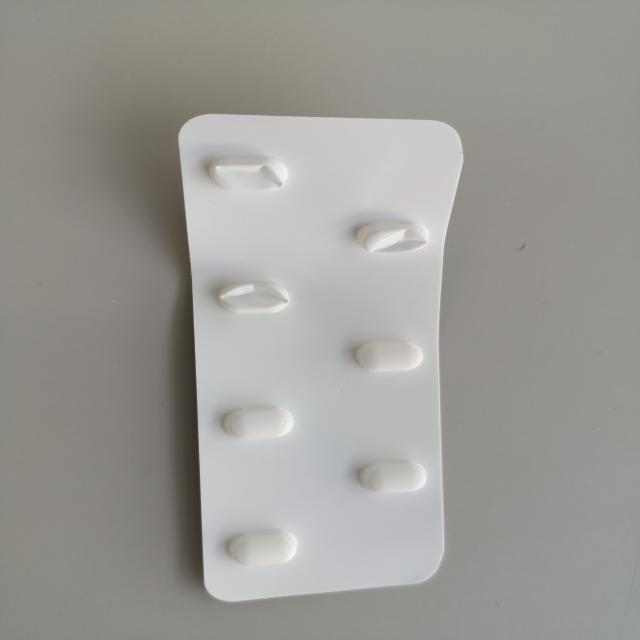Empty: (194, 147, 301, 200), (342, 208, 436, 261), (202, 272, 297, 322)
Pill: (348, 448, 439, 504), (207, 400, 306, 445), (220, 524, 306, 574), (344, 332, 430, 376)
